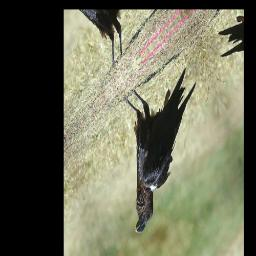Crow: (98, 38, 220, 238)
